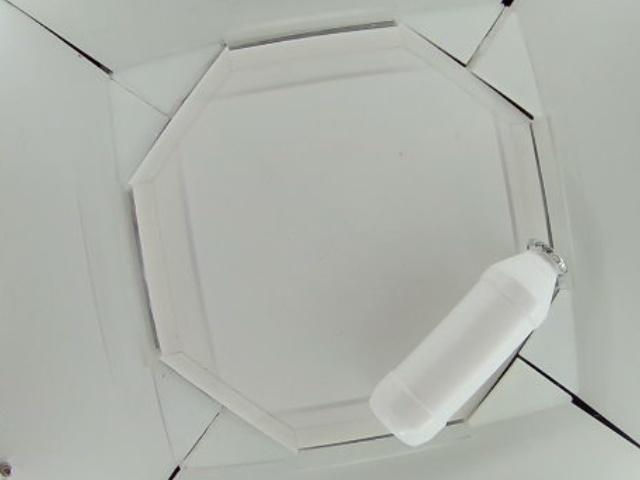Bottle: (371, 239, 570, 445)
